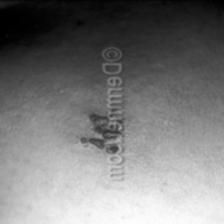Toxin: (81, 111, 105, 154)
